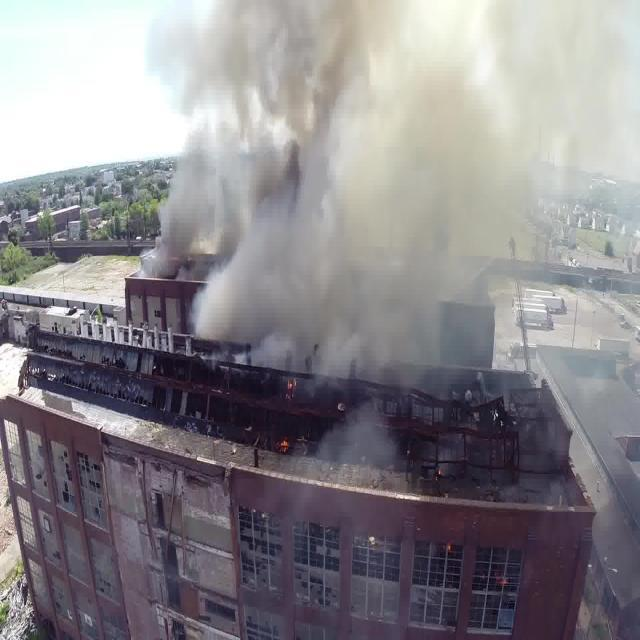Smoke: (135, 0, 640, 382)
